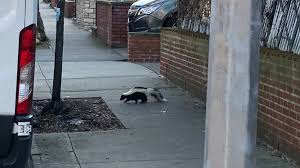skunk: (119, 85, 163, 105)
